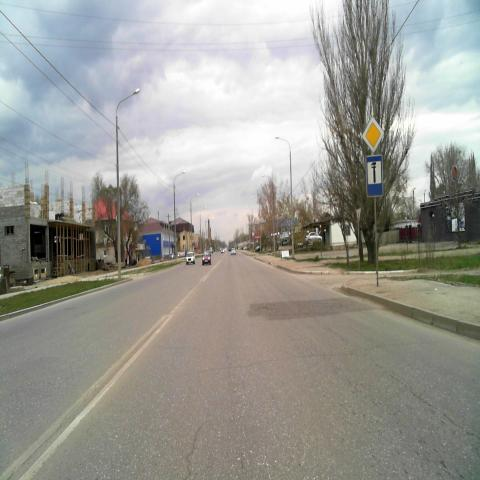7_4: (366, 154, 384, 198)
